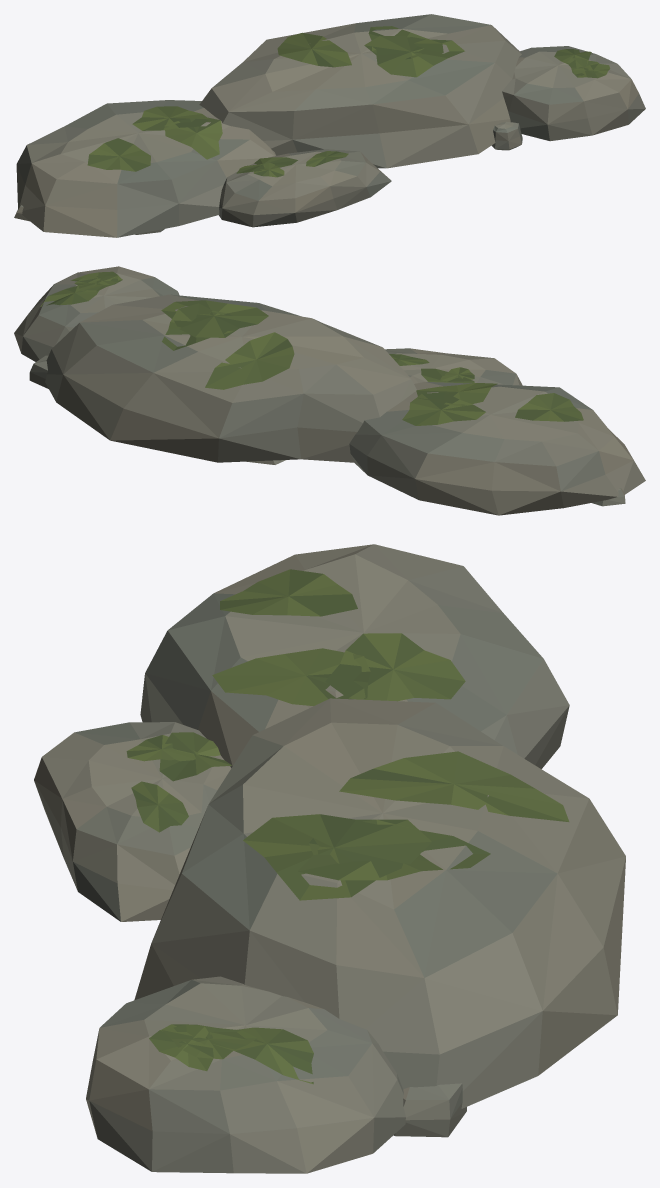
Rendered from valley-bank-shelf.glb.
3 renders of one model, top to bottom at view 1: azimuth 30°, elevation 25°; view 2: azimuth 150°, elevation 25°; view 3: azimuth 270°, elevation 25°, orthographic. The views are drawn at different scales.
Parts seen in each view (by area): view 1: bank-mineral-and-protected-moss; view 2: bank-mineral-and-protected-moss; view 3: bank-mineral-and-protected-moss.
Part boxes in pixels (left/top/right/bottom): bank-mineral-and-protected-moss: left=14, top=14, right=645, bottom=237; bank-mineral-and-protected-moss: left=14, top=266, right=645, bottom=515; bank-mineral-and-protected-moss: left=34, top=544, right=625, bottom=1173.
Bounding box in the file's own units: 3.2 × 0.4 × 1.4.
